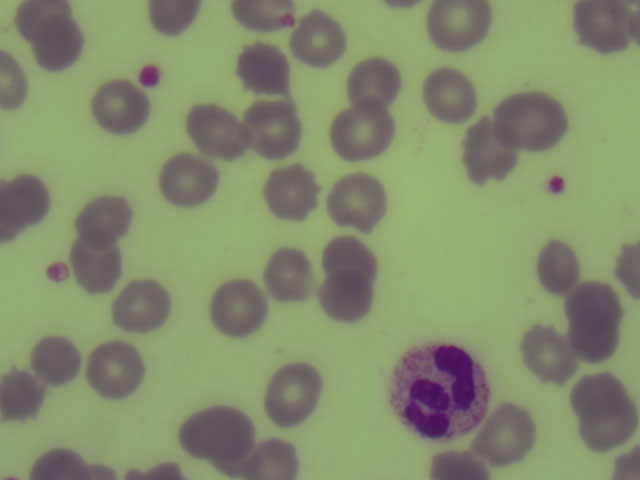Platelets: (50, 261, 70, 282), (143, 65, 159, 87), (550, 174, 566, 194)
RBC: (484, 88, 570, 148), (458, 114, 522, 181), (184, 99, 250, 162), (326, 164, 388, 231), (180, 406, 256, 460), (331, 94, 391, 159), (428, 1, 495, 57), (263, 363, 320, 425), (518, 322, 575, 382), (478, 403, 534, 464), (84, 341, 140, 401), (576, 1, 640, 51), (249, 98, 304, 156), (160, 153, 220, 206), (113, 277, 173, 330), (64, 240, 124, 293), (72, 185, 132, 238), (31, 19, 91, 72), (264, 162, 319, 219), (93, 80, 149, 133), (210, 280, 266, 333), (236, 42, 292, 95), (347, 58, 403, 111), (290, 12, 346, 65), (575, 399, 631, 452), (570, 355, 626, 408), (570, 309, 626, 362), (566, 274, 622, 327), (424, 68, 480, 121), (263, 251, 319, 304), (533, 239, 589, 292), (30, 330, 86, 383), (318, 271, 374, 324), (323, 231, 379, 284), (1, 172, 48, 234), (241, 434, 300, 480), (34, 443, 94, 480), (1, 369, 46, 418), (145, 1, 200, 38), (434, 444, 487, 480), (231, 1, 294, 30), (12, 1, 67, 33), (2, 50, 25, 111), (129, 455, 182, 480), (617, 244, 640, 295), (610, 449, 640, 480)
WBC: (390, 348, 489, 442)
